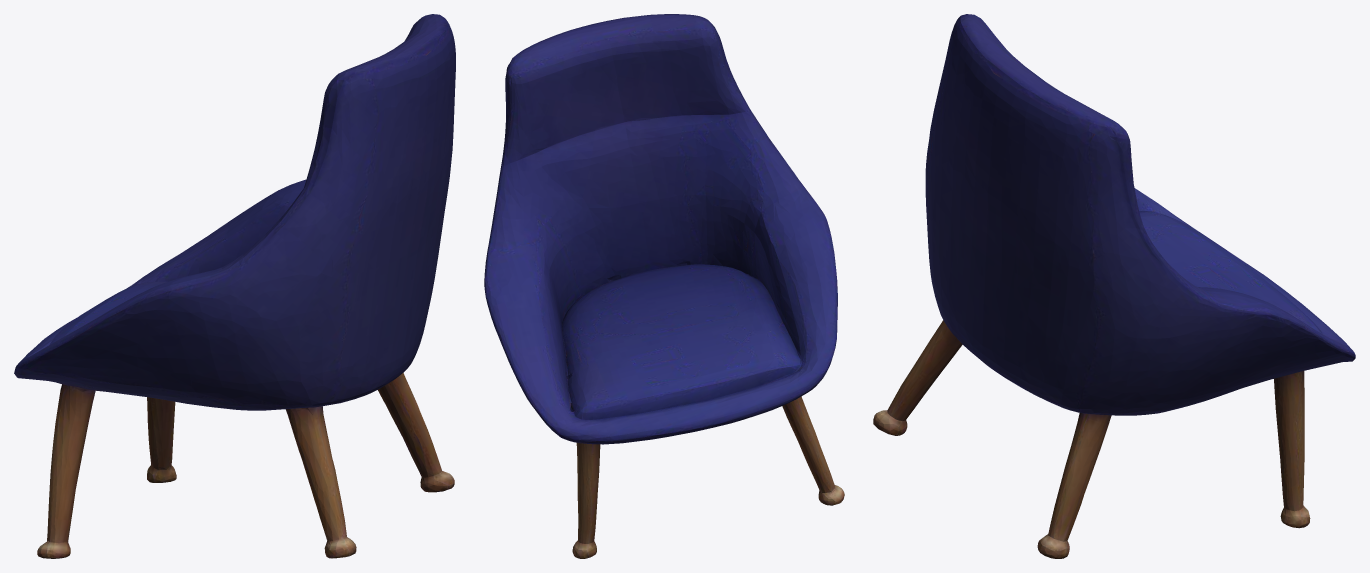
File: blue_armchair_000.glb
3 views of the same model, side by side, from view 1: azimuth 30°, elevation 25°; view 2: azimuth 150°, elevation 25°; view 3: azimuth 270°, elevation 25° (orthographic). The views are drawn at different scales.
Visible parts, largest first — view 1: blue_armchair_000.obj; view 2: blue_armchair_000.obj; view 3: blue_armchair_000.obj.
Part boxes in pixels (x1,y1,x2,y2): blue_armchair_000.obj: (14,14,455,558); blue_armchair_000.obj: (484,14,844,558); blue_armchair_000.obj: (873,14,1355,558).
Size of the model in its own units: 0.4063 by 0.5022 by 0.4223.
1 material, 1 textured.
